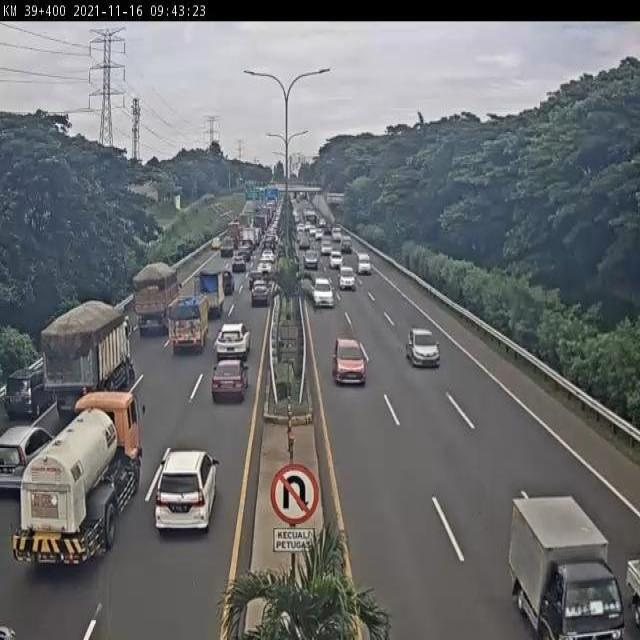Car: (155, 446, 216, 536), (0, 419, 46, 492), (4, 362, 48, 421), (332, 337, 366, 386), (211, 361, 247, 402), (214, 322, 250, 359), (407, 328, 439, 365), (313, 280, 335, 308), (251, 283, 269, 307), (229, 254, 247, 275), (328, 250, 346, 270), (303, 252, 319, 272), (254, 260, 272, 276), (340, 273, 356, 290), (358, 256, 372, 275)
Truck: (12, 389, 148, 563), (506, 494, 626, 634), (42, 303, 138, 403), (132, 292, 170, 336), (198, 270, 226, 316)
